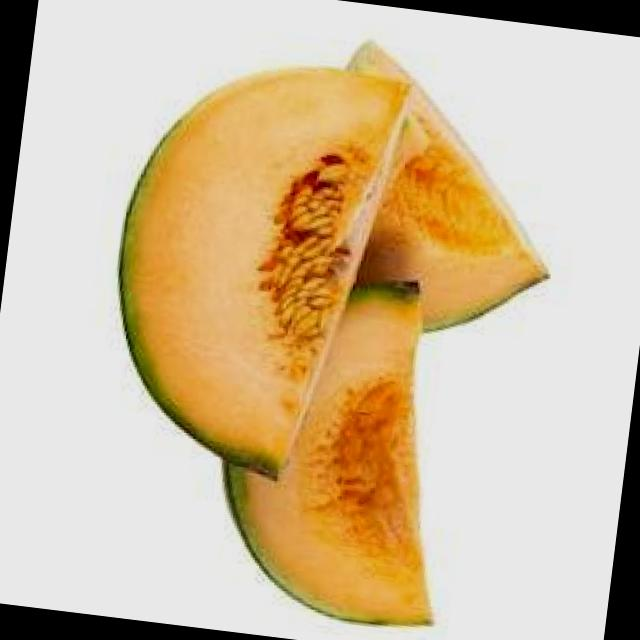cantaloupe: (92, 46, 412, 490), (210, 264, 476, 633), (316, 36, 574, 343)
